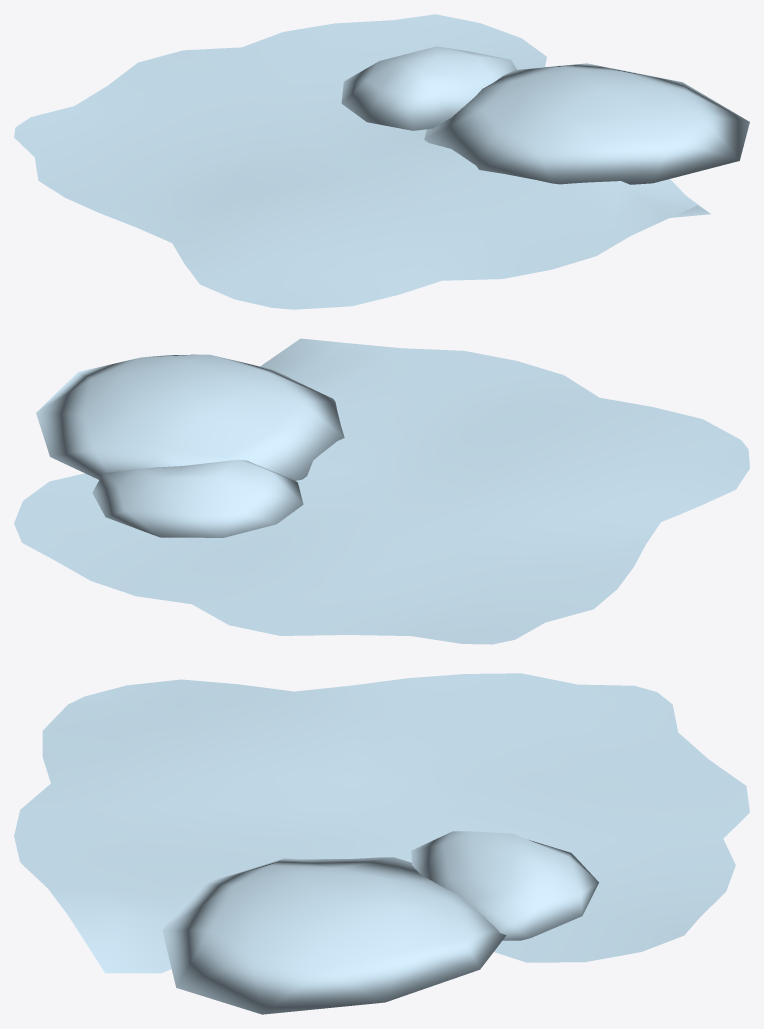
File: snow.fbx
3 renders of one model, top to bottom at view 1: azimuth 30°, elevation 25°; view 2: azimuth 150°, elevation 25°; view 3: azimuth 270°, elevation 25°, orthographic. The views are drawn at different scales.
Parts seen in each view (by area): view 1: Plane, Icosphere.001, Icosphere; view 2: Plane, Icosphere.001, Icosphere; view 3: Plane, Icosphere.001, Icosphere.
Part boxes in pixels (x1,y1,x2,y2): Plane: [14, 14, 710, 309]; Icosphere.001: [424, 63, 749, 184]; Icosphere: [341, 46, 516, 130]; Plane: [14, 338, 749, 644]; Icosphere.001: [36, 354, 344, 480]; Icosphere: [92, 459, 303, 537]; Plane: [14, 673, 749, 973]; Icosphere.001: [162, 857, 506, 1014]; Icosphere: [411, 831, 598, 940].
Size of the model in its own units: 1147 by 107 by 1062.
